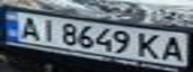4: (93, 26, 115, 52)
6: (75, 24, 96, 49)
8: (57, 20, 81, 46)
9: (112, 28, 136, 55)
A: (157, 34, 187, 63), (15, 14, 42, 40)
I: (36, 17, 60, 43)
K: (136, 30, 166, 61)
